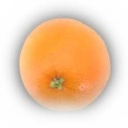orange: (20, 18, 112, 112)
